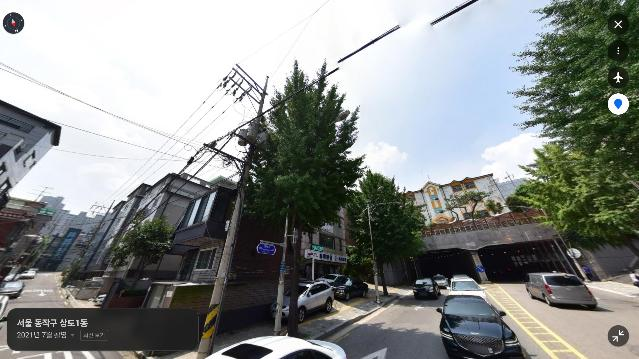other: (505, 0, 639, 273), (241, 56, 368, 339), (345, 168, 430, 298), (107, 211, 179, 302), (436, 190, 501, 226)
